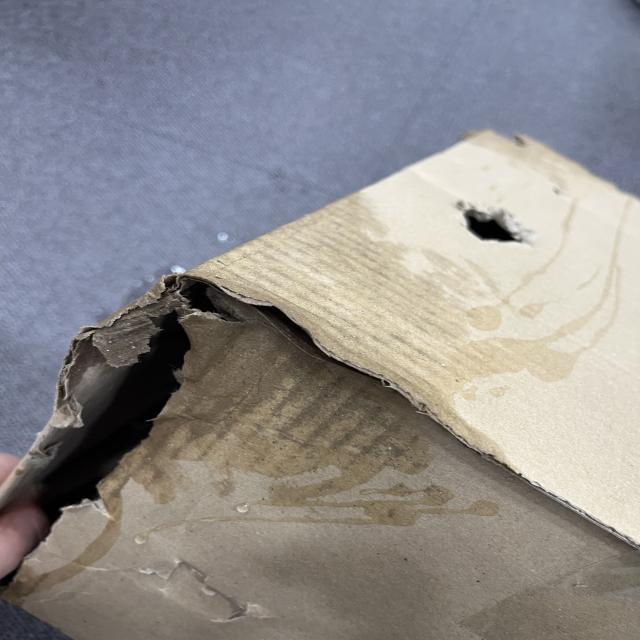hole: (3, 283, 185, 540), (454, 188, 542, 261)
wet: (196, 230, 476, 486)
